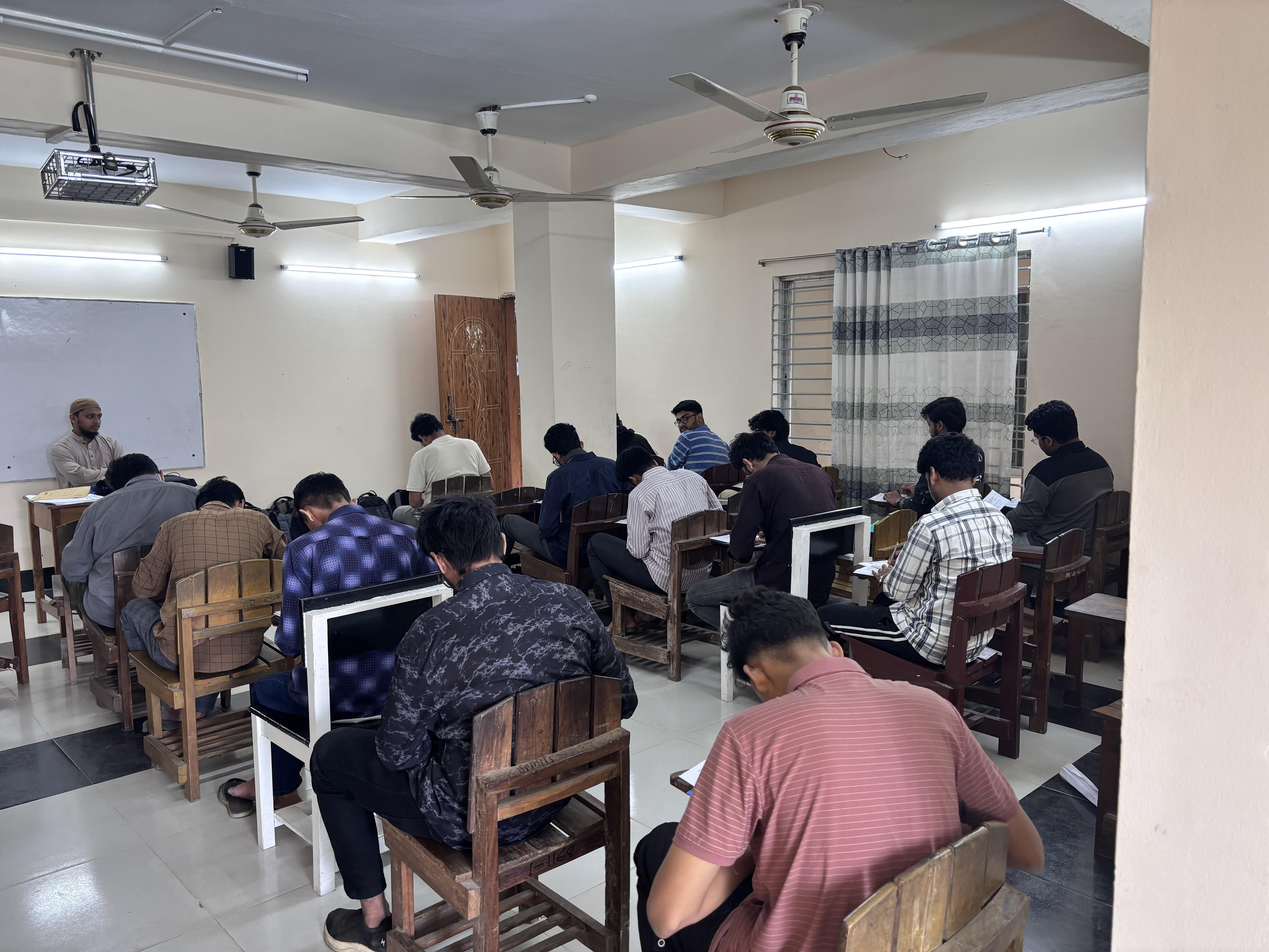no_cheating: (654, 576, 1055, 952), (350, 498, 613, 865), (249, 470, 424, 703), (132, 475, 291, 687), (72, 458, 224, 639), (891, 440, 1019, 645), (991, 392, 1116, 568), (710, 431, 821, 594), (600, 437, 706, 601), (520, 411, 619, 546), (884, 388, 991, 511), (388, 412, 499, 510), (731, 402, 823, 503)
suspicious_moving: (655, 387, 741, 487)
